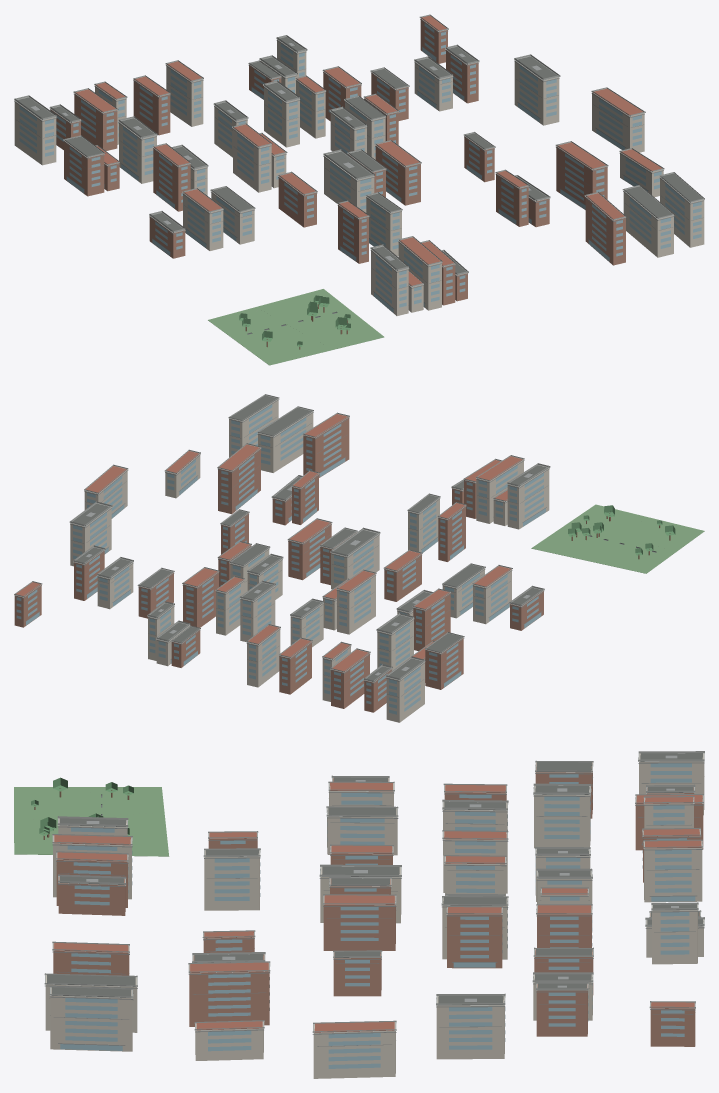
The picture shows the model from 3 angles, top to bottom: view 1: azimuth 30°, elevation 25°; view 2: azimuth 150°, elevation 25°; view 3: azimuth 270°, elevation 25°; orthographic projection. The views are drawn at different scales.
Visible parts, largest first — view 1: neighborhood-park-block-001-mesh-0, building-0266-mesh-239, building-0269-mesh-254, building-0183-mesh-155, building-0013-mesh-48, building-0264-mesh-229, building-0268-mesh-249, building-0106-mesh-123, building-0265-mesh-234, building-0008-mesh-32, building-0015-mesh-60, building-0006-mesh-21 (+43 smaller); view 2: neighborhood-park-block-001-mesh-0, building-0183-mesh-155, building-0266-mesh-239, building-0096-mesh-70, building-0264-mesh-229, building-0106-mesh-123, building-0013-mesh-48, building-0006-mesh-21, building-0192-mesh-202, building-0008-mesh-32, building-0015-mesh-60, building-0186-mesh-171 (+42 smaller); view 3: neighborhood-park-block-001-mesh-0, building-0266-mesh-239, building-0265-mesh-234, building-0268-mesh-249, building-0269-mesh-254, building-0186-mesh-171, building-0190-mesh-192, building-0102-mesh-102, building-0010-mesh-42, building-0111-mesh-150, building-0271-mesh-266, building-0196-mesh-223 (+59 smaller).
Part boxes in pixels (<box>): neighborhood-park-block-001-mesh-0: <box>208,289,384,365</box>; building-0266-mesh-239: <box>556,146,607,209</box>; building-0269-mesh-254: <box>514,60,559,125</box>; building-0183-mesh-155: <box>585,197,625,265</box>; building-0013-mesh-48: <box>14,101,56,165</box>; building-0264-mesh-229: <box>623,191,673,257</box>; building-0268-mesh-249: <box>592,92,644,152</box>; building-0106-mesh-123: <box>233,128,271,192</box>; building-0265-mesh-234: <box>660,177,704,247</box>; building-0008-mesh-32: <box>64,141,104,196</box>; building-0015-mesh-60: <box>74,93,117,150</box>; building-0006-mesh-21: <box>153,148,190,211</box>; neighborhood-park-block-001-mesh-0: <box>531,504,704,573</box>; building-0183-mesh-155: <box>303,417,349,477</box>; building-0266-mesh-239: <box>218,448,260,514</box>; building-0096-mesh-70: <box>507,468,549,529</box>; building-0264-mesh-229: <box>258,412,313,472</box>; building-0106-mesh-123: <box>337,574,375,634</box>; building-0013-mesh-48: <box>386,662,424,722</box>; building-0006-mesh-21: <box>413,593,450,650</box>; building-0192-mesh-202: <box>183,572,218,627</box>; building-0008-mesh-32: <box>425,638,463,689</box>; building-0015-mesh-60: <box>331,653,369,708</box>; building-0186-mesh-171: <box>288,523,331,580</box>; neighborhood-park-block-001-mesh-0: <box>14,787,169,856</box>; building-0266-mesh-239: <box>189,963,269,1026</box>; building-0265-mesh-234: <box>50,987,132,1051</box>; building-0268-mesh-249: <box>313,1023,395,1078</box>; building-0269-mesh-254: <box>436,996,504,1059</box>; building-0186-mesh-171: <box>323,896,395,950</box>; building-0190-mesh-192: <box>447,908,502,968</box>; building-0102-mesh-102: <box>204,850,259,910</box>; building-0010-mesh-42: <box>534,786,590,848</box>; building-0111-mesh-150: <box>644,841,702,902</box>; building-0271-mesh-266: <box>536,984,587,1036</box>; building-0196-mesh-223: <box>652,905,697,964</box>.
Bounding box in the file's own units: 273 × 24.33 × 273.
